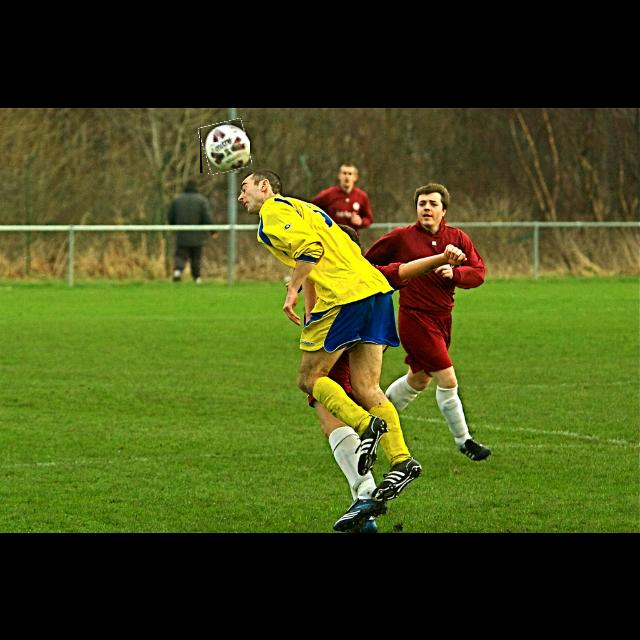Football: (200, 121, 250, 173)
